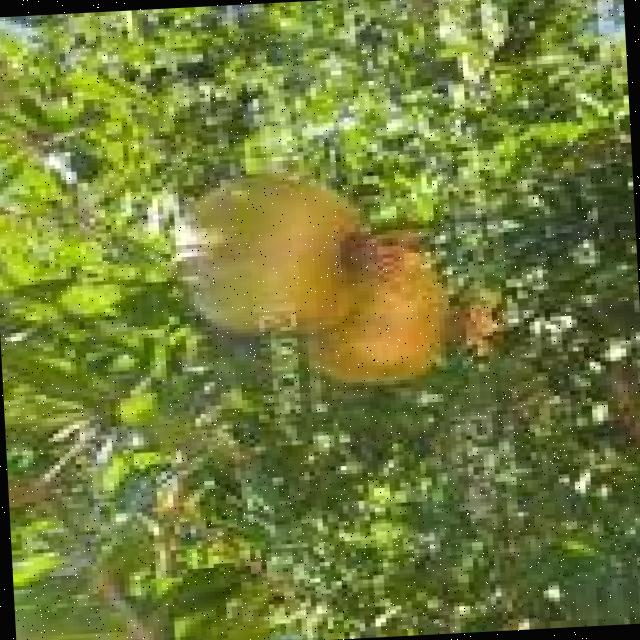Unripe: (166, 169, 399, 341)
